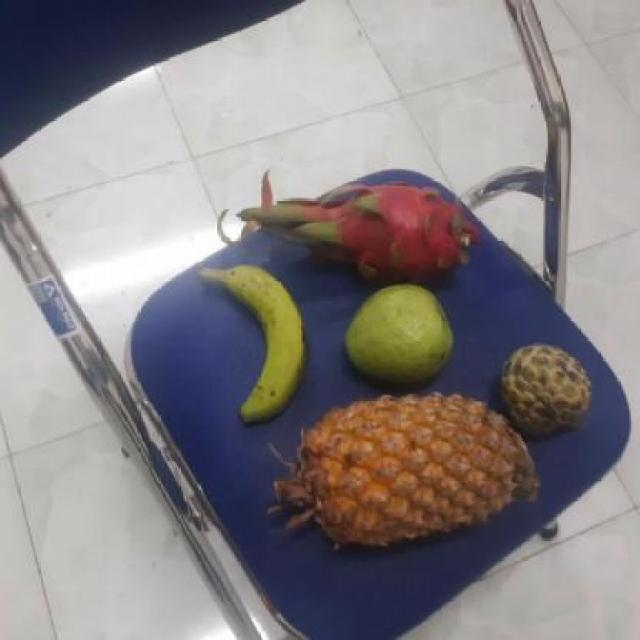banana: (208, 266, 308, 419)
dragon fruit: (291, 177, 477, 292)
guava: (342, 282, 460, 383)
pineapple: (289, 394, 529, 544)
sugar apple: (491, 344, 591, 436)
